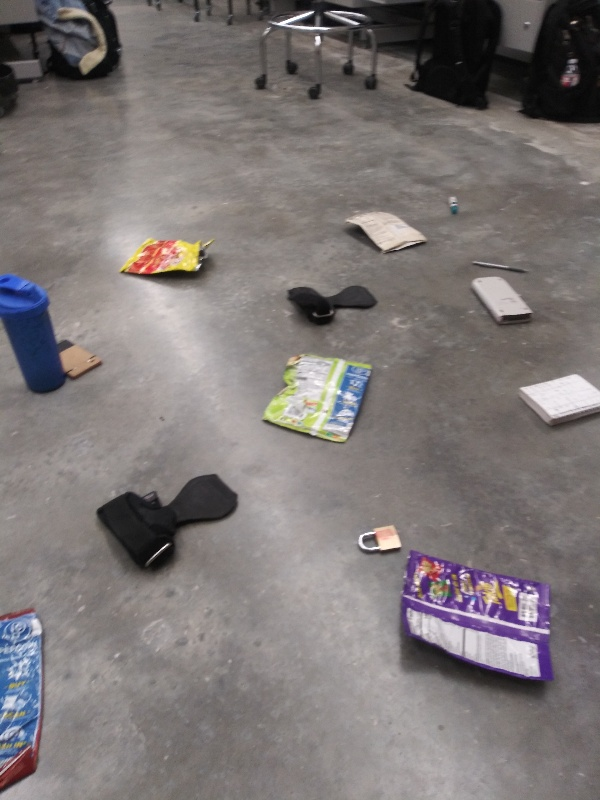bag: (394, 548, 563, 692), (259, 349, 378, 448), (3, 601, 49, 800), (120, 235, 220, 281), (342, 208, 432, 256)
bottle: (558, 54, 584, 90)
